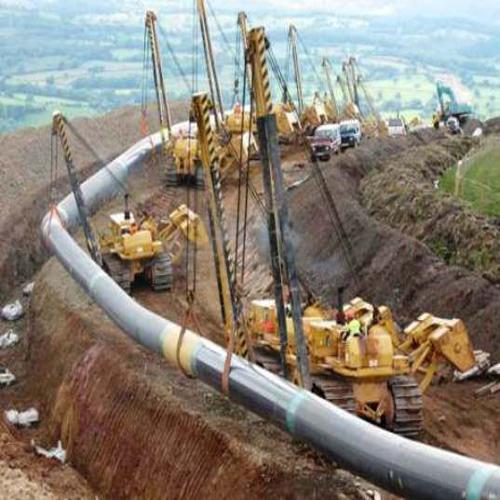con_eq: (246, 290, 433, 441), (91, 197, 203, 295), (164, 135, 220, 191), (224, 110, 261, 163)
